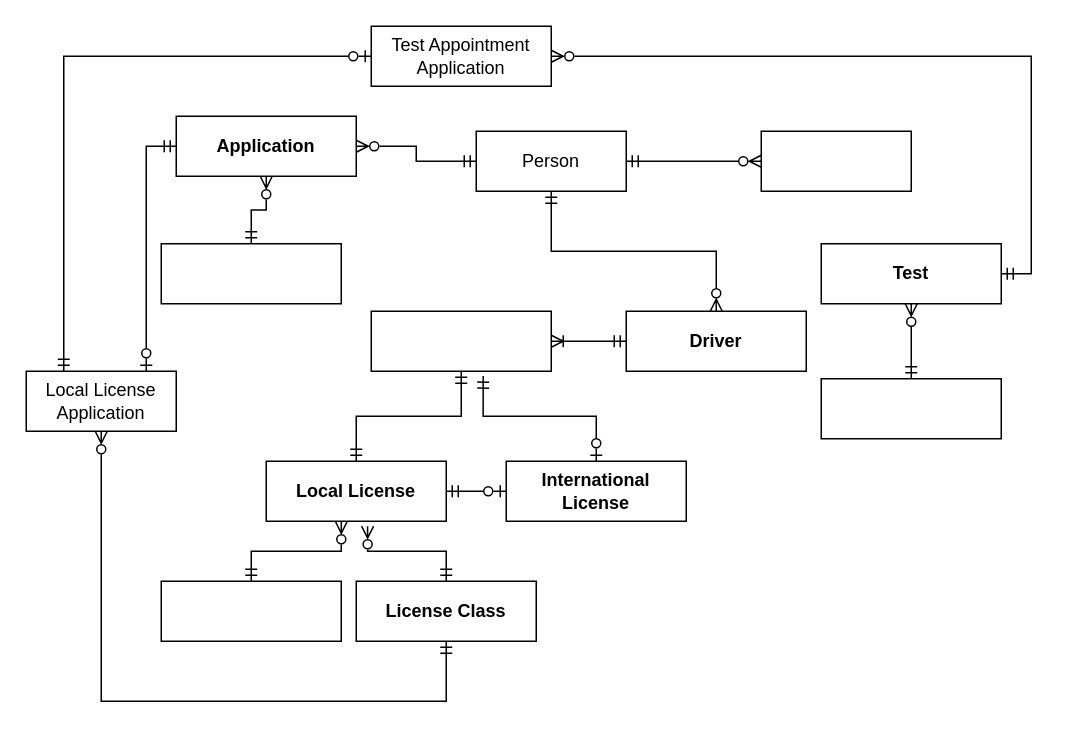
Image size: 1071x741. Some labels were removed from this diagram. The shapes that lost their labels are listed below. From the top down, each one's centre as x and y in pixels, then its label:
point (835, 160): User
point (250, 273): Application Type
point (460, 340): License
point (910, 408): Test Type
point (250, 610): License Issunce Type
